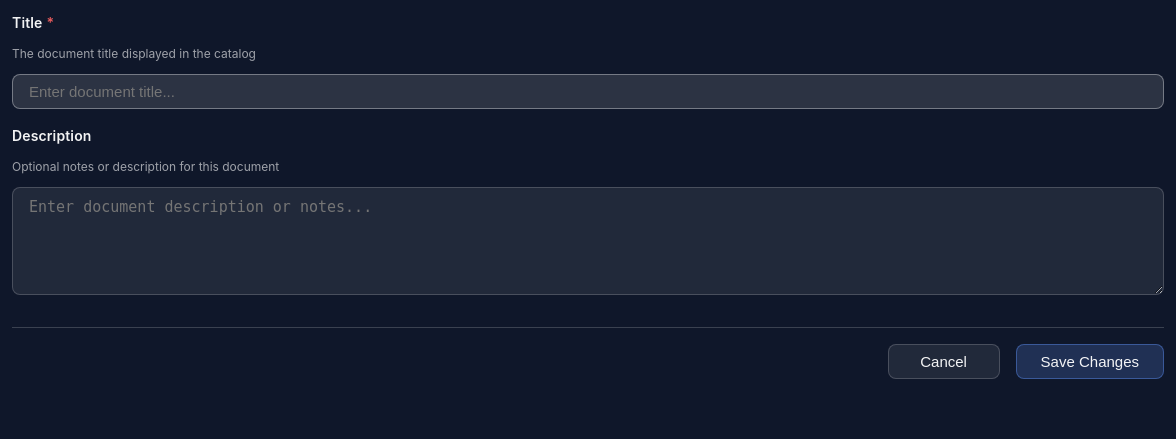
Test case: DocumentEditForm › form validation › clears title error when user types
Submit to trigger error
Click the button "Save Changes": (1090, 362) x1=1016 y1=344 x2=1164 y2=379
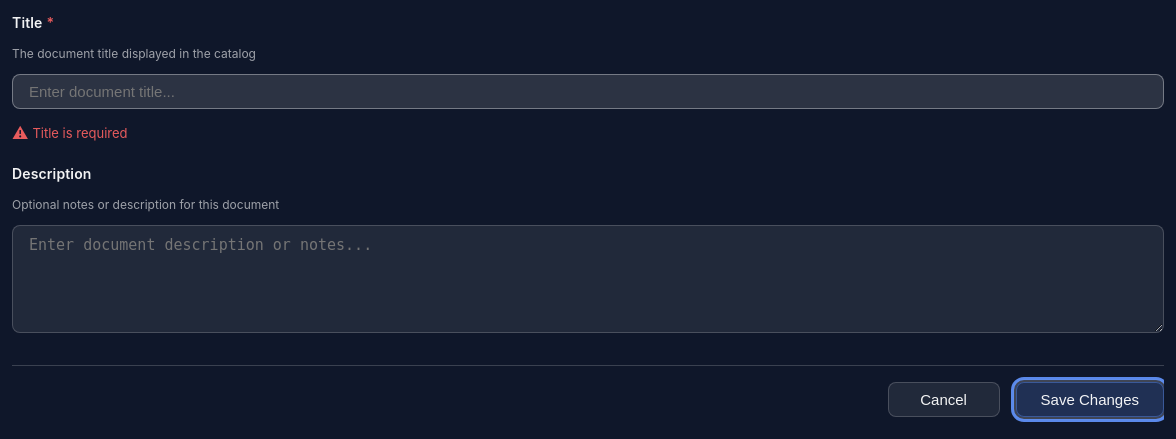
Result: the message "Title is required" is shown at x1=32 y1=125 x2=128 y2=141
Type in title field
In the field labelled "Title": (588, 92) x1=12 y1=74 x2=1164 y2=109, type "New title"
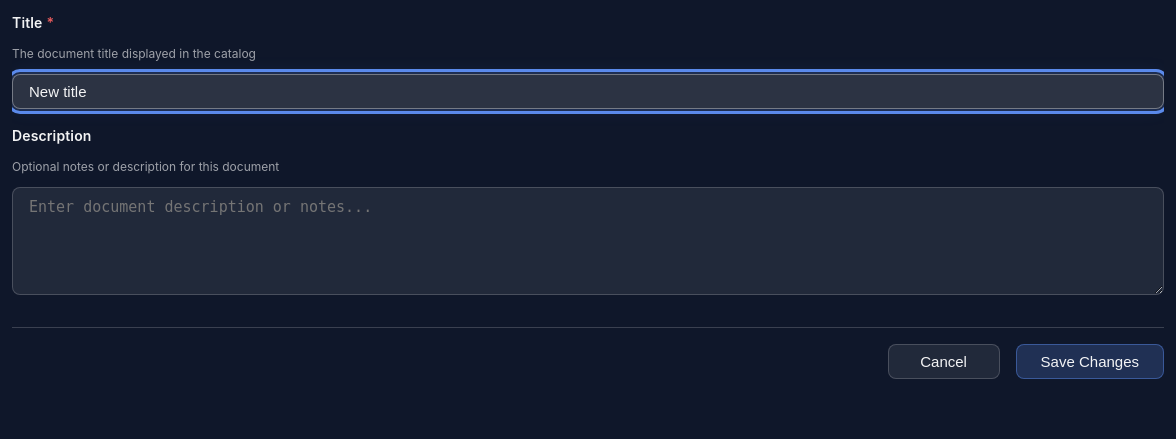
Result: the text "Title is required" is gone
